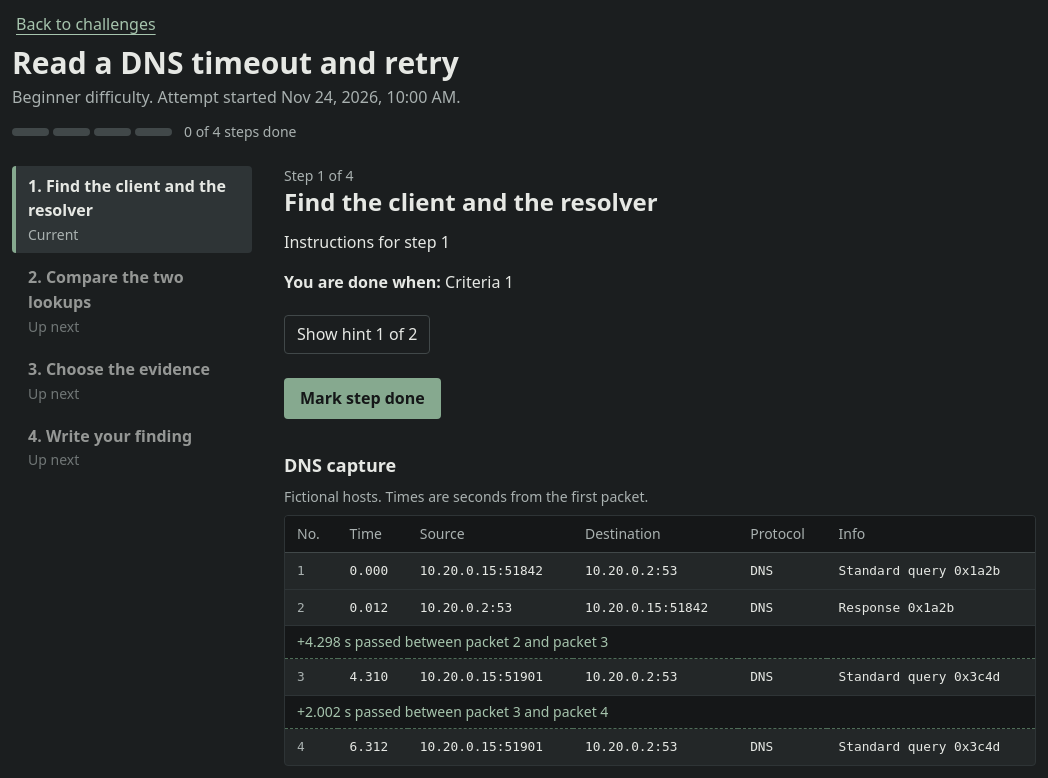
Workspace: steps › completes a task step and moves to the next one
This screenshot has width=1048, height=778.
Click the button "Mark step done" at coordinates (362, 398), box [284,378,441,419]
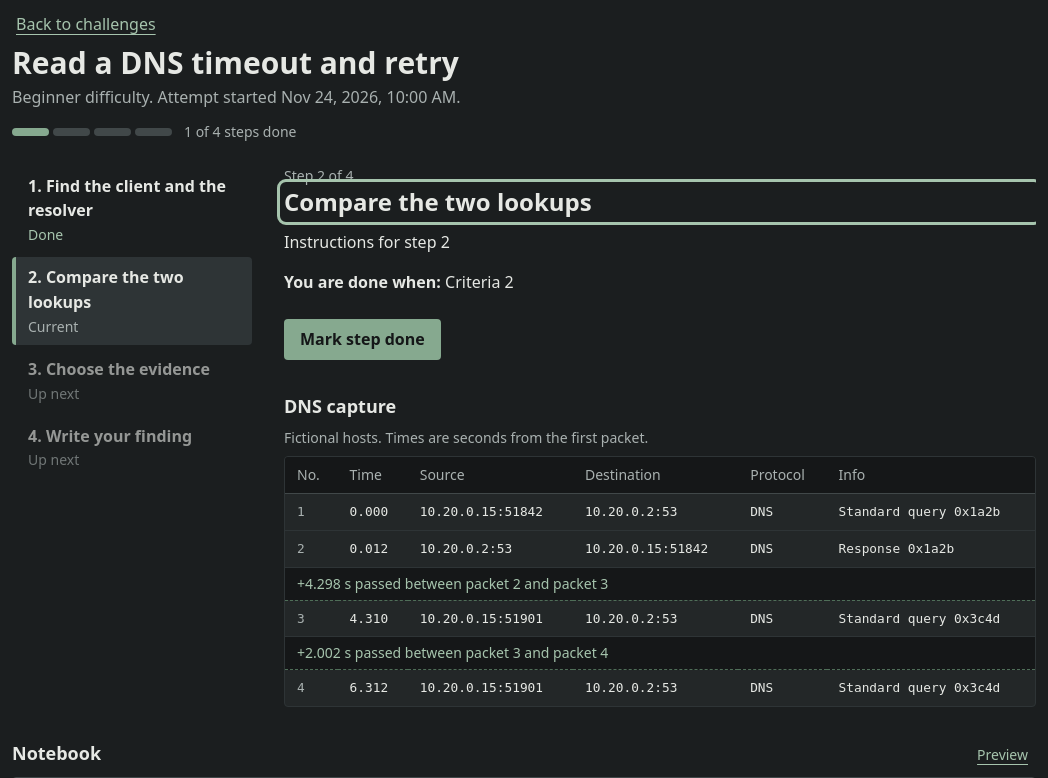
Check: the heading "Compare the two lookups" is shown, box [284,185,592,218]
